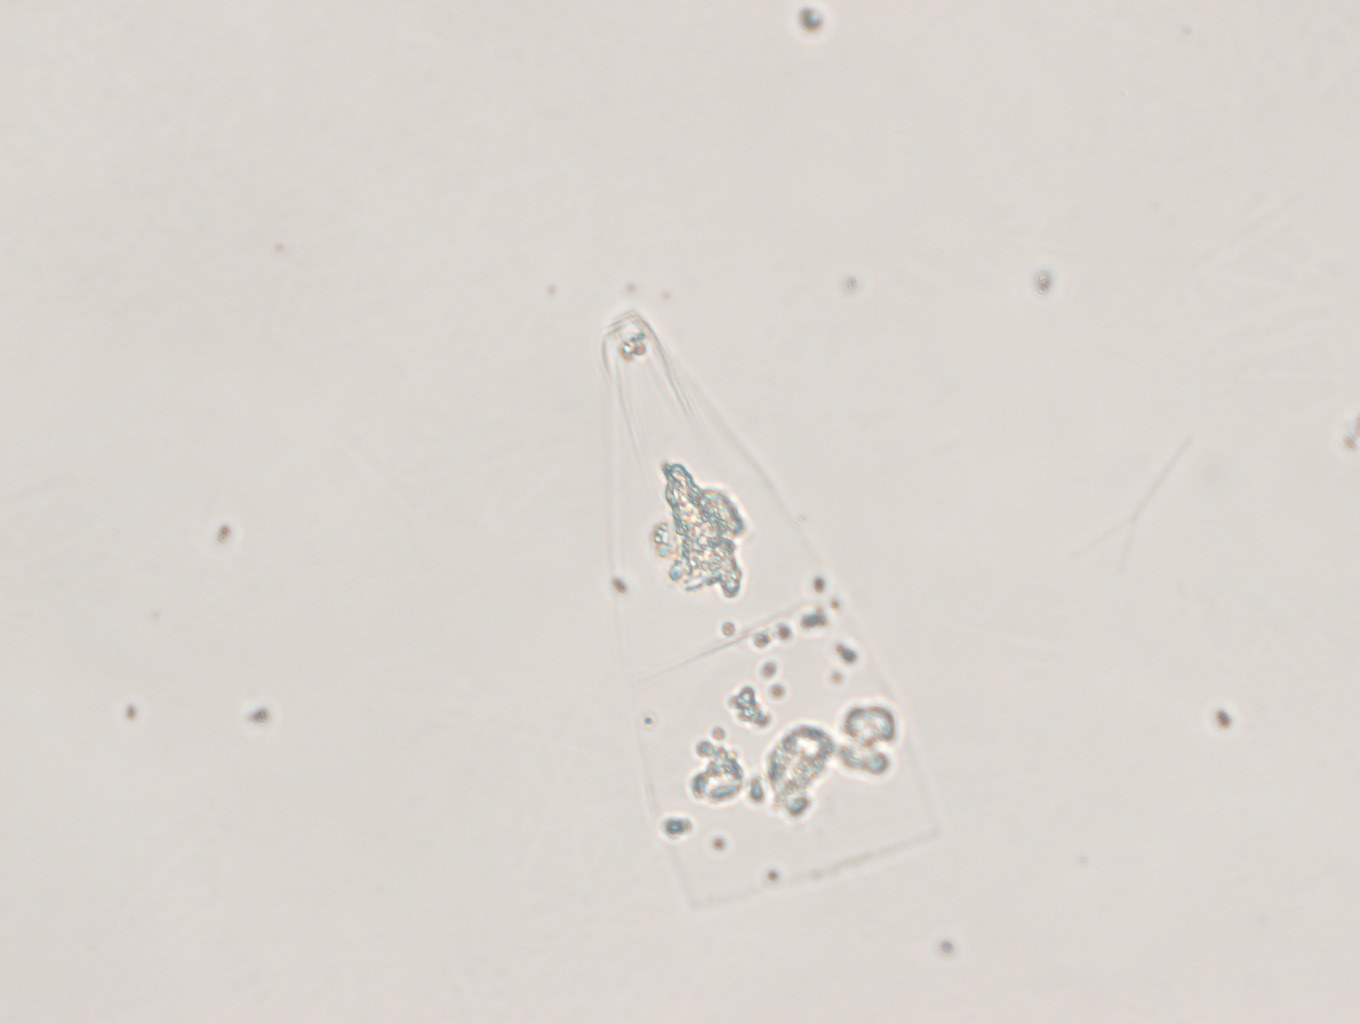helicotheca: (592, 297, 999, 923)
